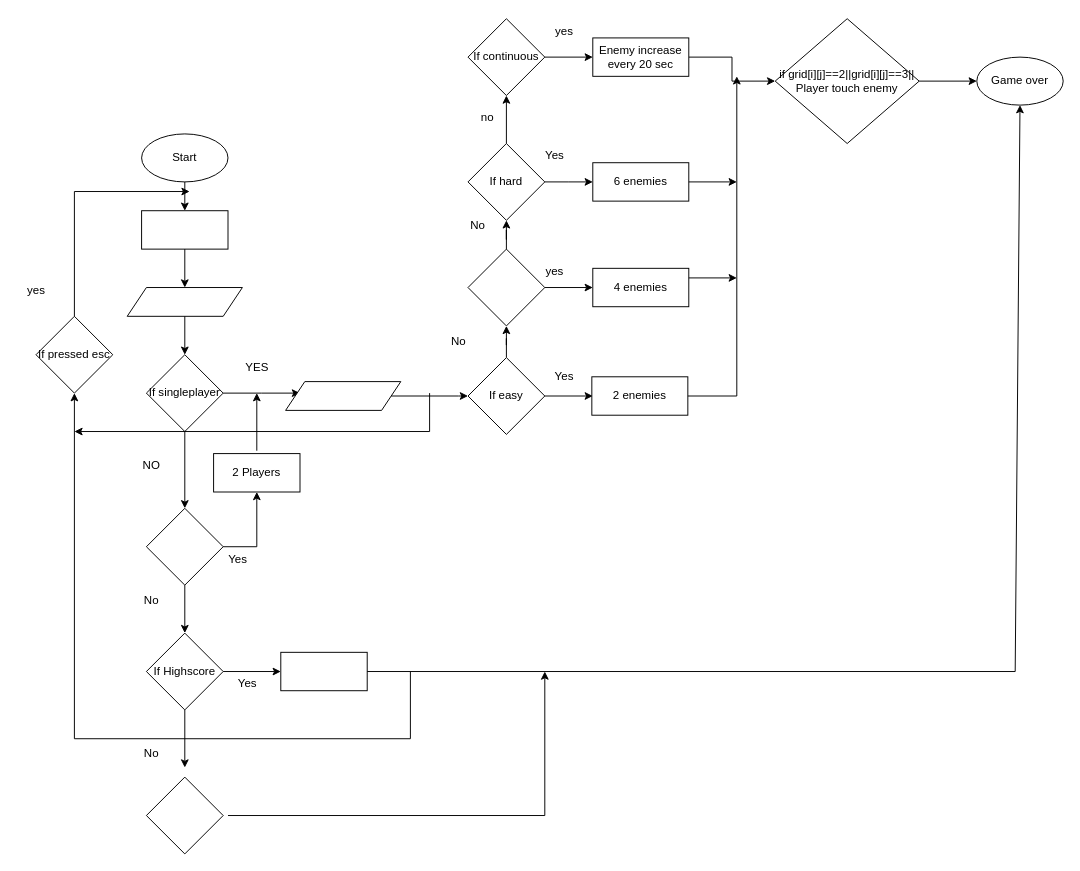
Some shapes in this 1080 by 871 pixel diagram are drawn without their labels. The shapes that lost their labels are listed below. From the top down, each one's centre as x and y in pixels, then its label:
the point at 184,229: Menu
the point at 184,301: Selecting menu options
the point at 506,287: If medium
the point at 343,395: Mode selection
the point at 184,546: if multiplayer
the point at 323,671: Display highscore
the point at 184,815: if exit
